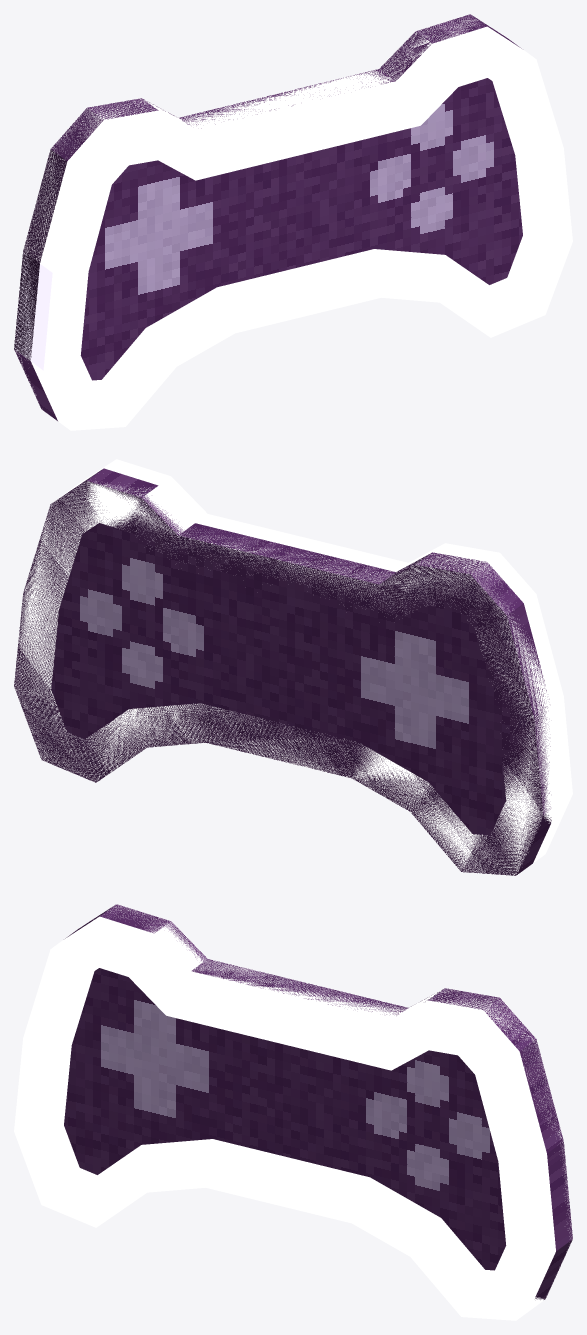
Rendered from gamepad_light.glb.
The picture shows the model from 3 angles, top to bottom: view 1: azimuth 30°, elevation 25°; view 2: azimuth 150°, elevation 25°; view 3: azimuth 330°, elevation 25°; orthographic projection.
Parts seen in each view (by area): view 1: Emitter, Backplate; view 2: Backplate, Emitter; view 3: Emitter, Backplate.
Boxes of the visible parts, <box> form: Emitter: <box>14,15,572,430</box>; Backplate: <box>14,14,522,420</box>; Backplate: <box>14,468,551,875</box>; Emitter: <box>14,459,572,875</box>; Emitter: <box>14,904,572,1320</box>; Backplate: <box>64,904,572,1299</box>.
Size of the model in its own units: 2.9 by 1.57 by 0.28.
2 materials, 1 textured.
